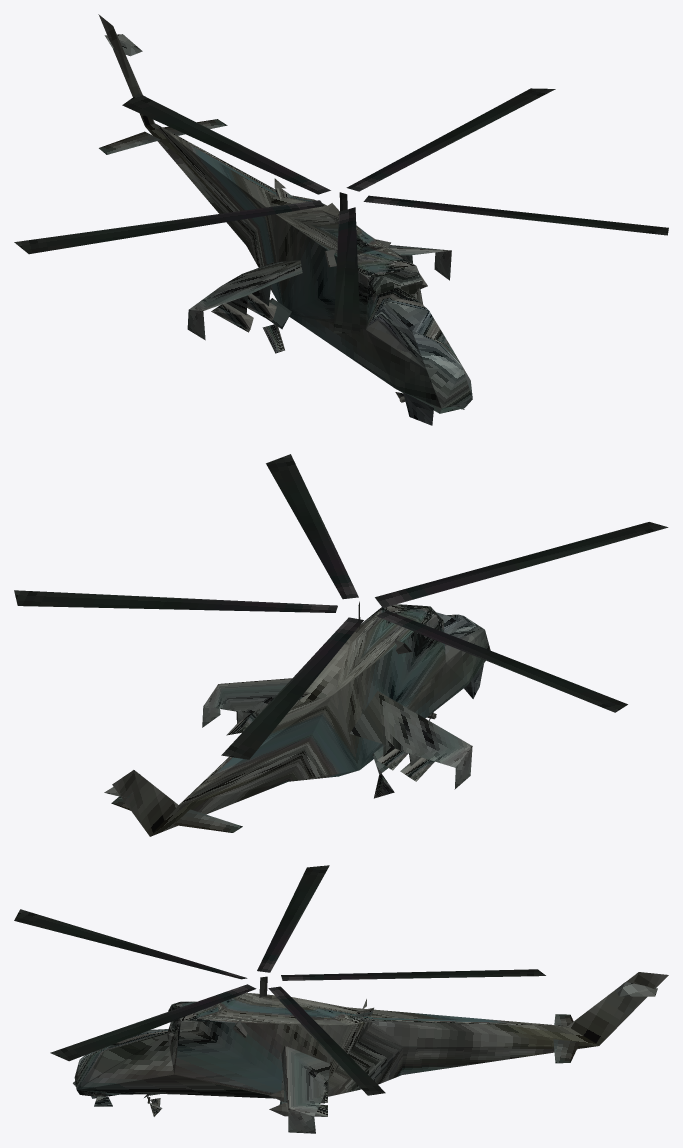
The picture shows the model from 3 angles, top to bottom: view 1: azimuth 30°, elevation 25°; view 2: azimuth 150°, elevation 25°; view 3: azimuth 270°, elevation 25°; orthographic projection. The views are drawn at different scales.
Parts seen in each view (by area): view 1: Body_lambert1_0; view 2: Body_lambert1_0; view 3: Body_lambert1_0.
Boxes of the visible parts, x1=… form: Body_lambert1_0: x1=14, y1=14, x2=668, y2=425; Body_lambert1_0: x1=14, y1=454, x2=668, y2=836; Body_lambert1_0: x1=14, y1=865, x2=668, y2=1133.
Size of the model in its own units: 13.06 by 3.76 by 15.76.
1 material, 1 textured.
